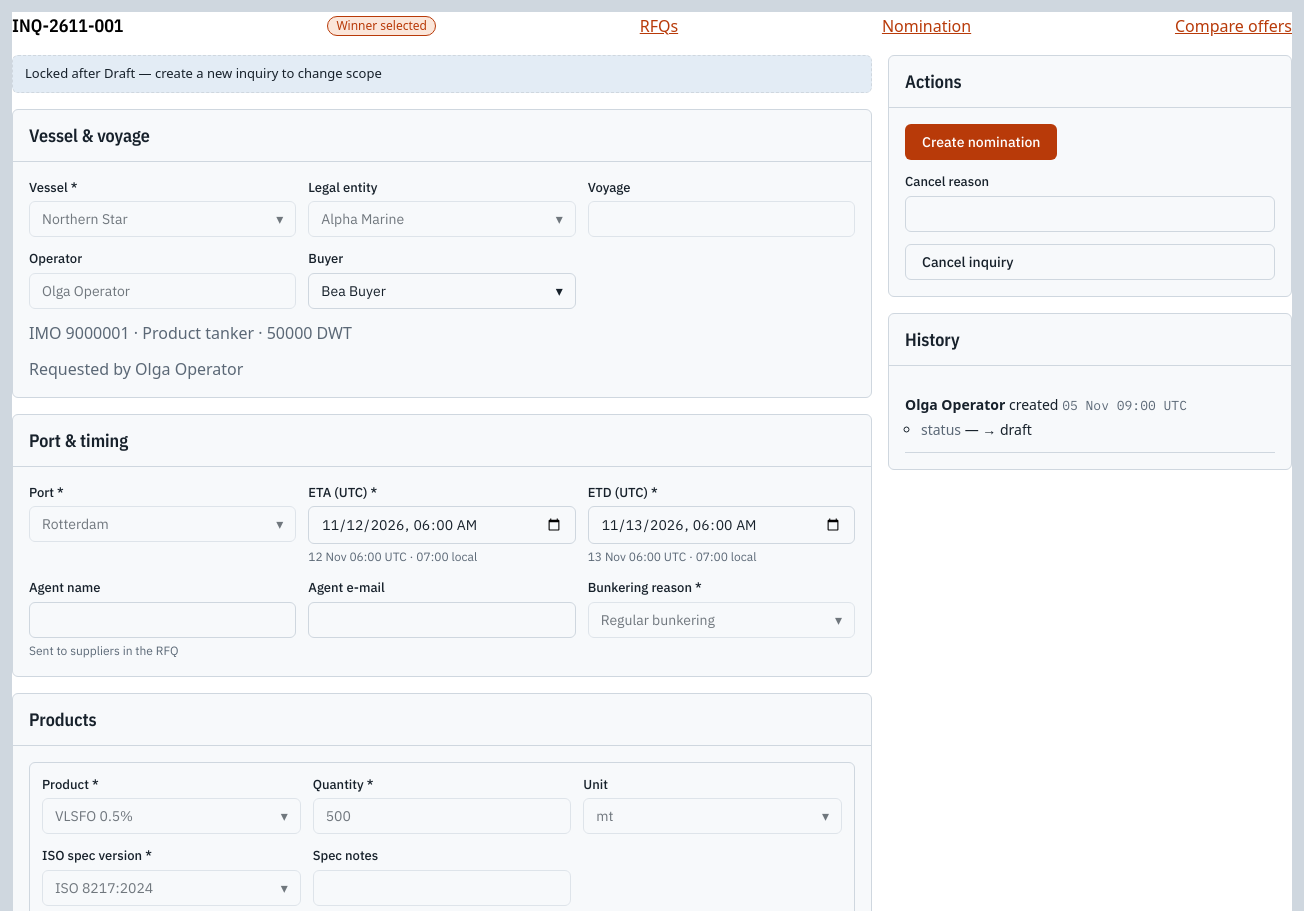
Test case: InquiryPage actions › [B5-R11] other failures stay on the page; other statuses and roles have no button
Step 1. Click the button "Create nomination" → coordinates (981, 142), box [905,124,1057,160]
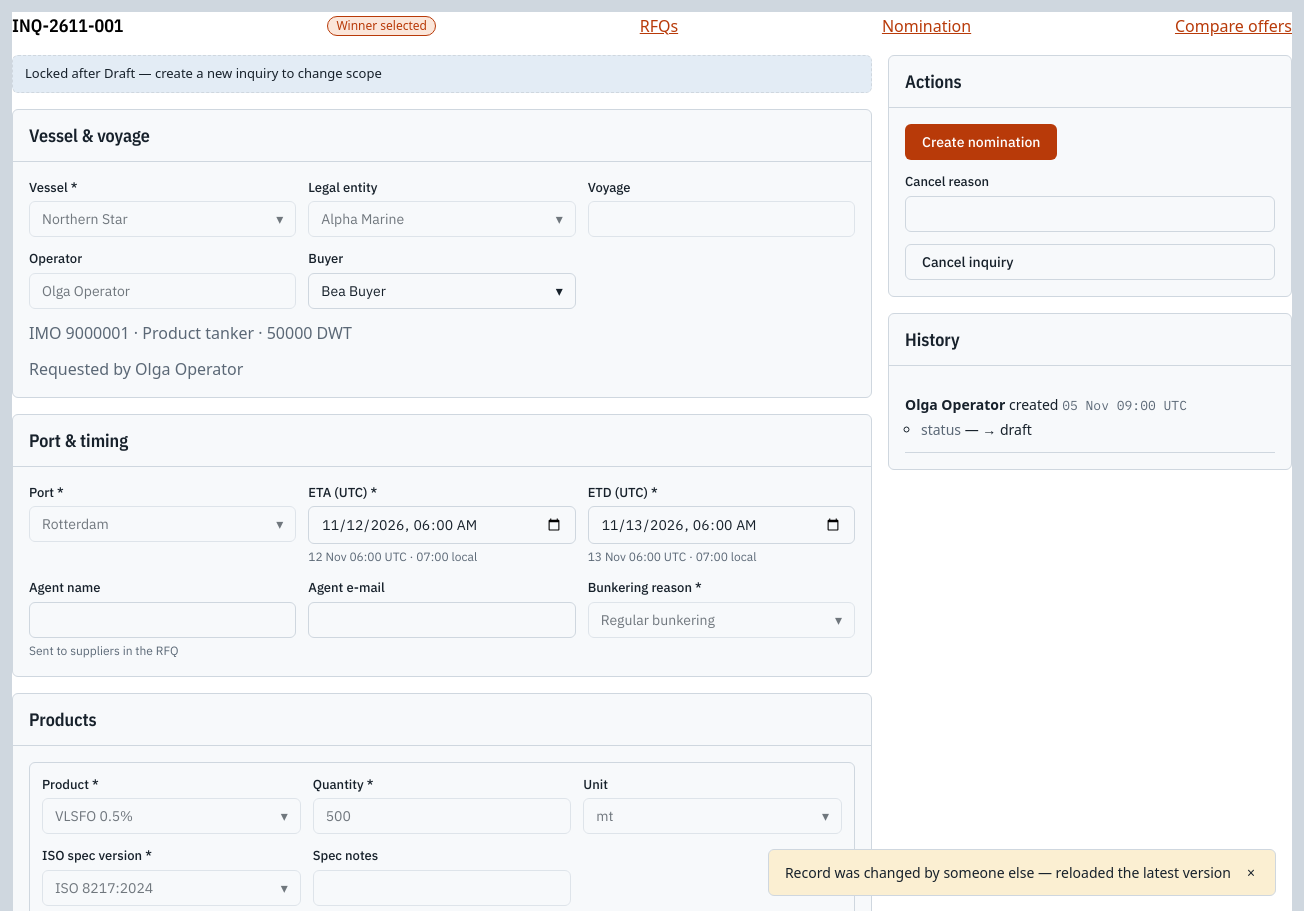
Check: the text "changed by someone else" is shown, box [785,863,1231,882]
